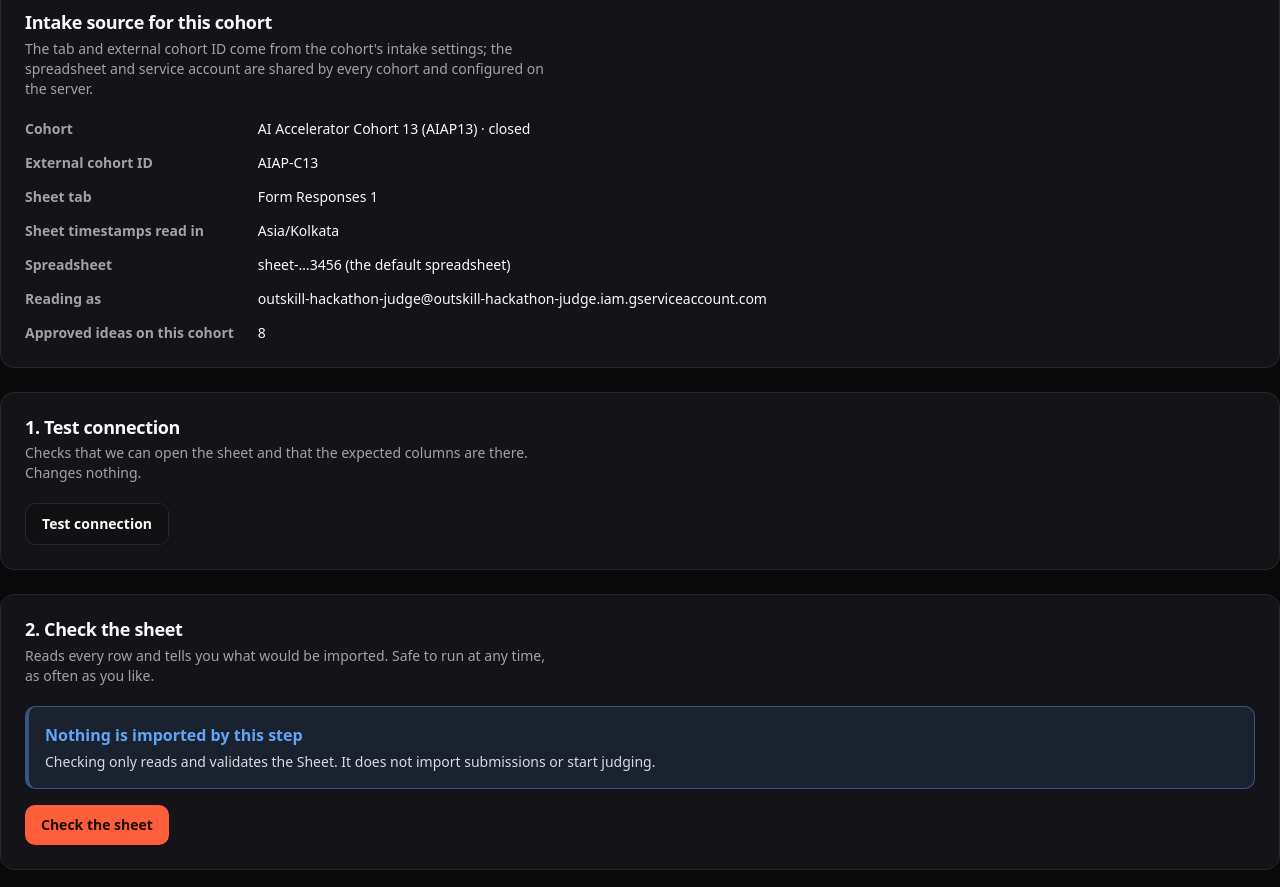
after importing › surfaces a refused import when the sheet moved underneath
Click the button "Check the sheet" at (97, 825), box [25,805,169,845]
(page scrolled)
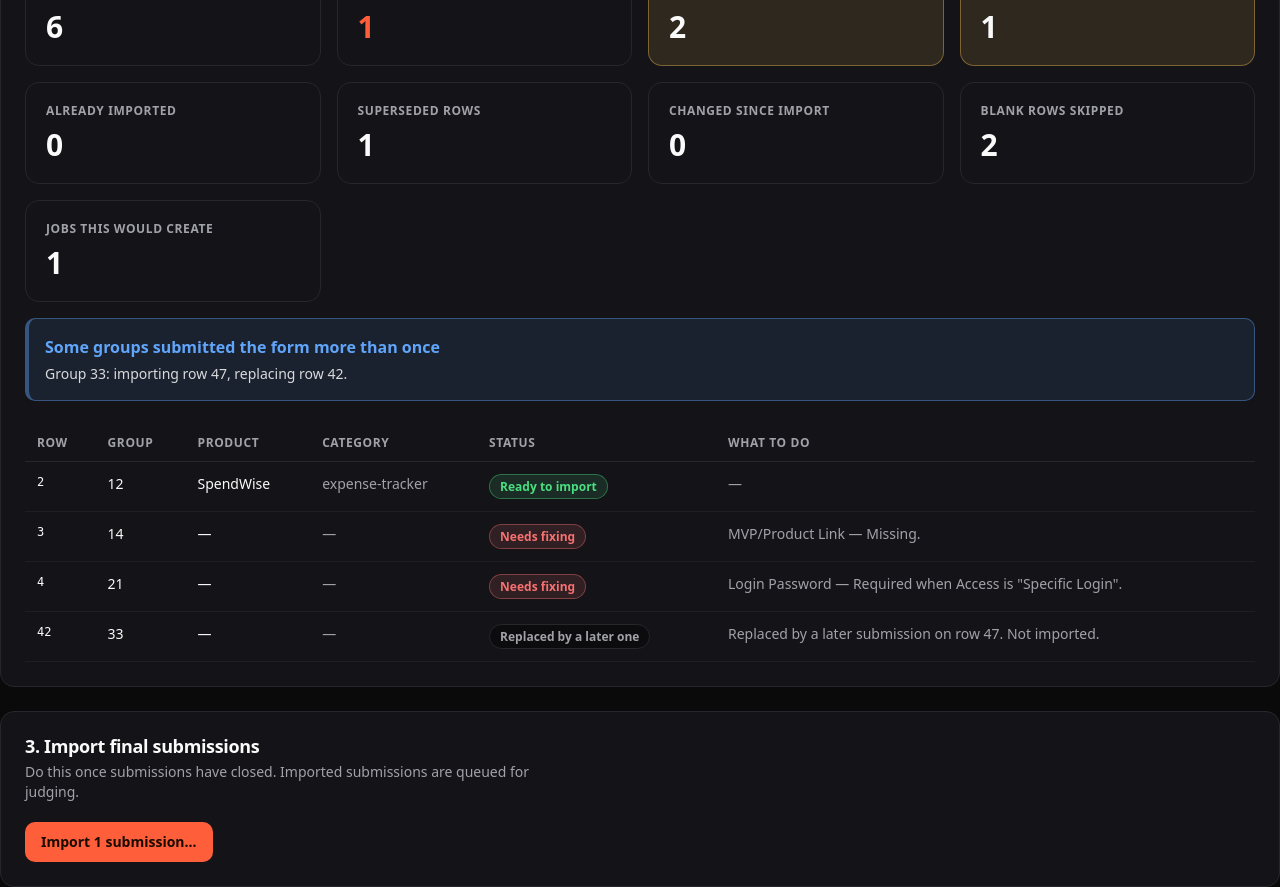
Click the button "Import 1 submission…" at (119, 842), box [25,822,212,862]
(page scrolled)
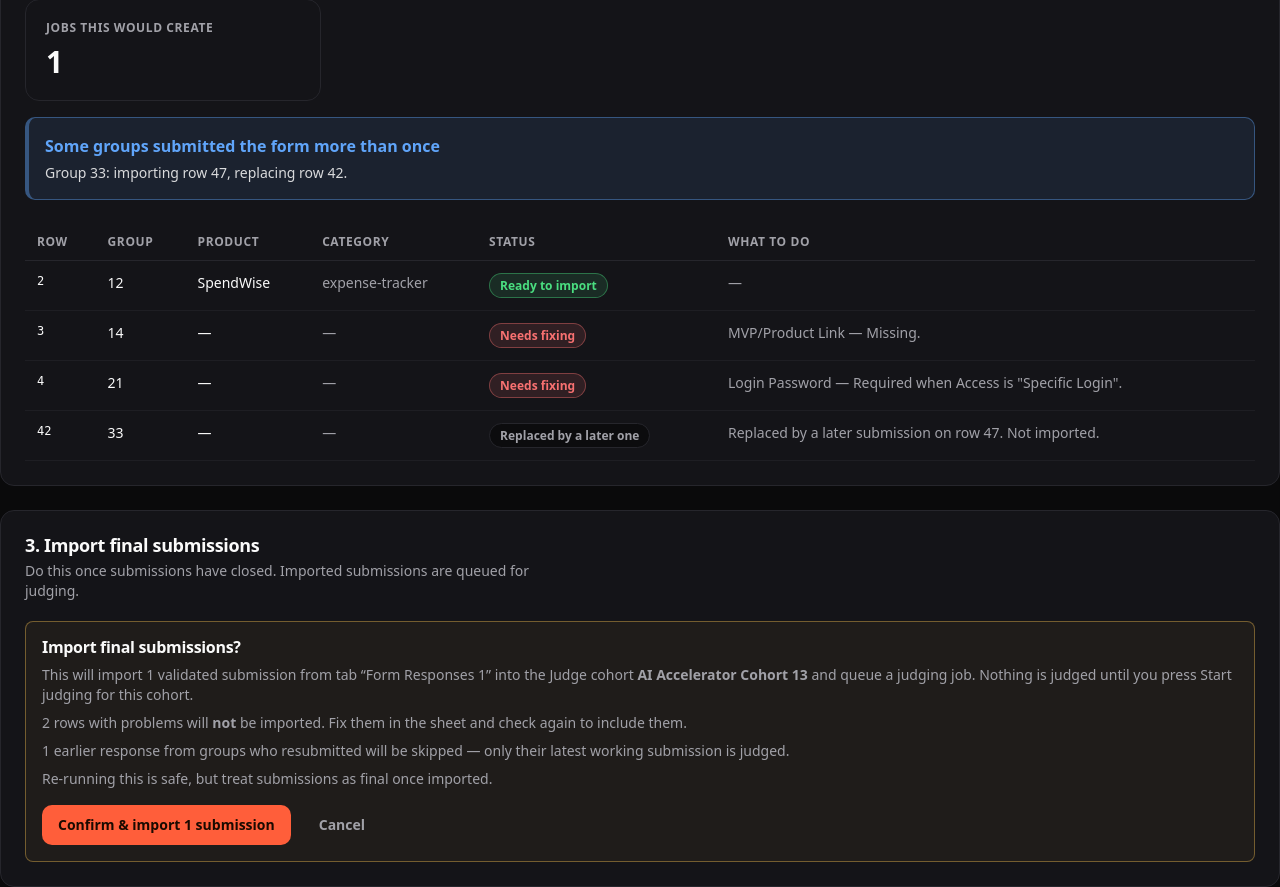
Click the button "Confirm & import 1 submission" at (166, 825), box [42,805,291,845]
(page scrolled)
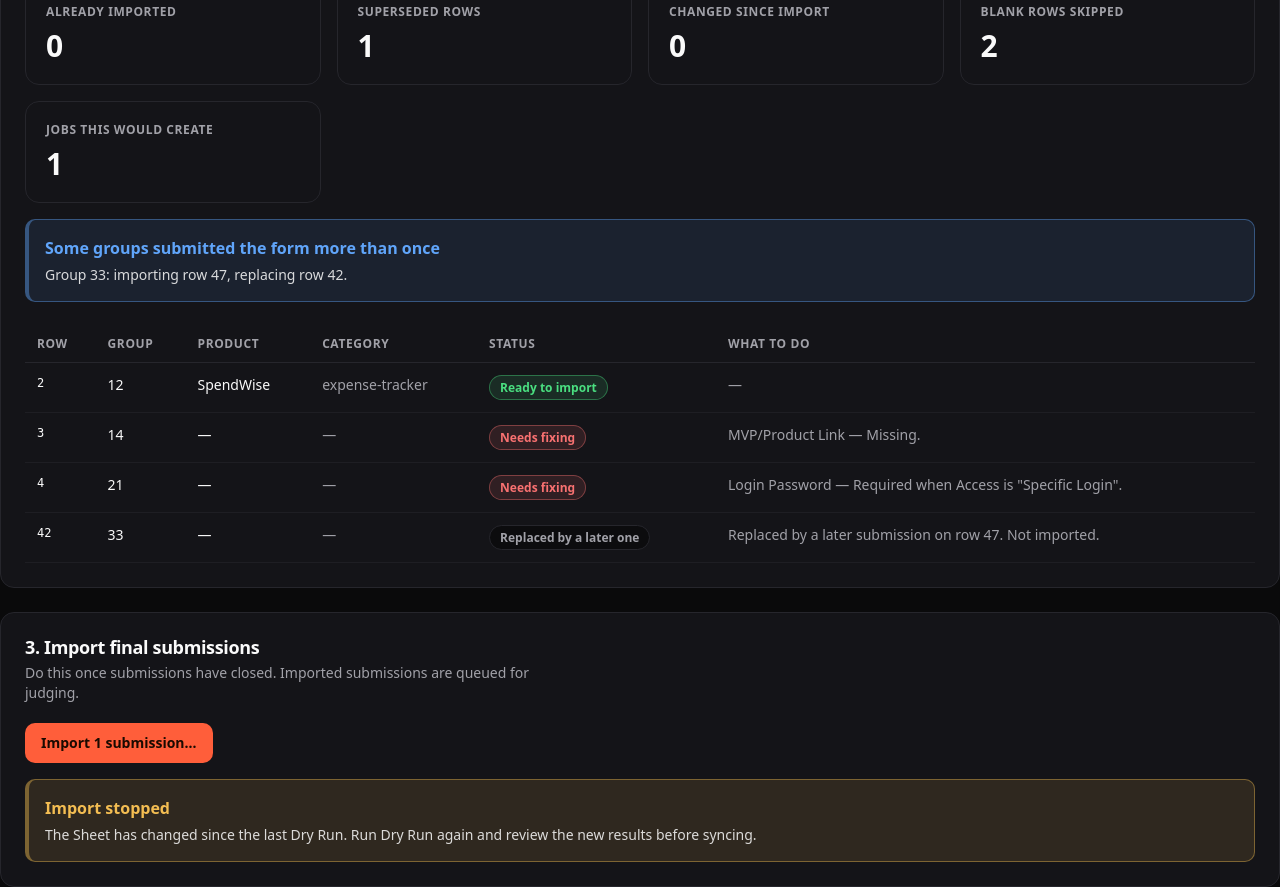
expect the text "changed since the last Dry Run" is shown: met, box [45,825,757,844]
